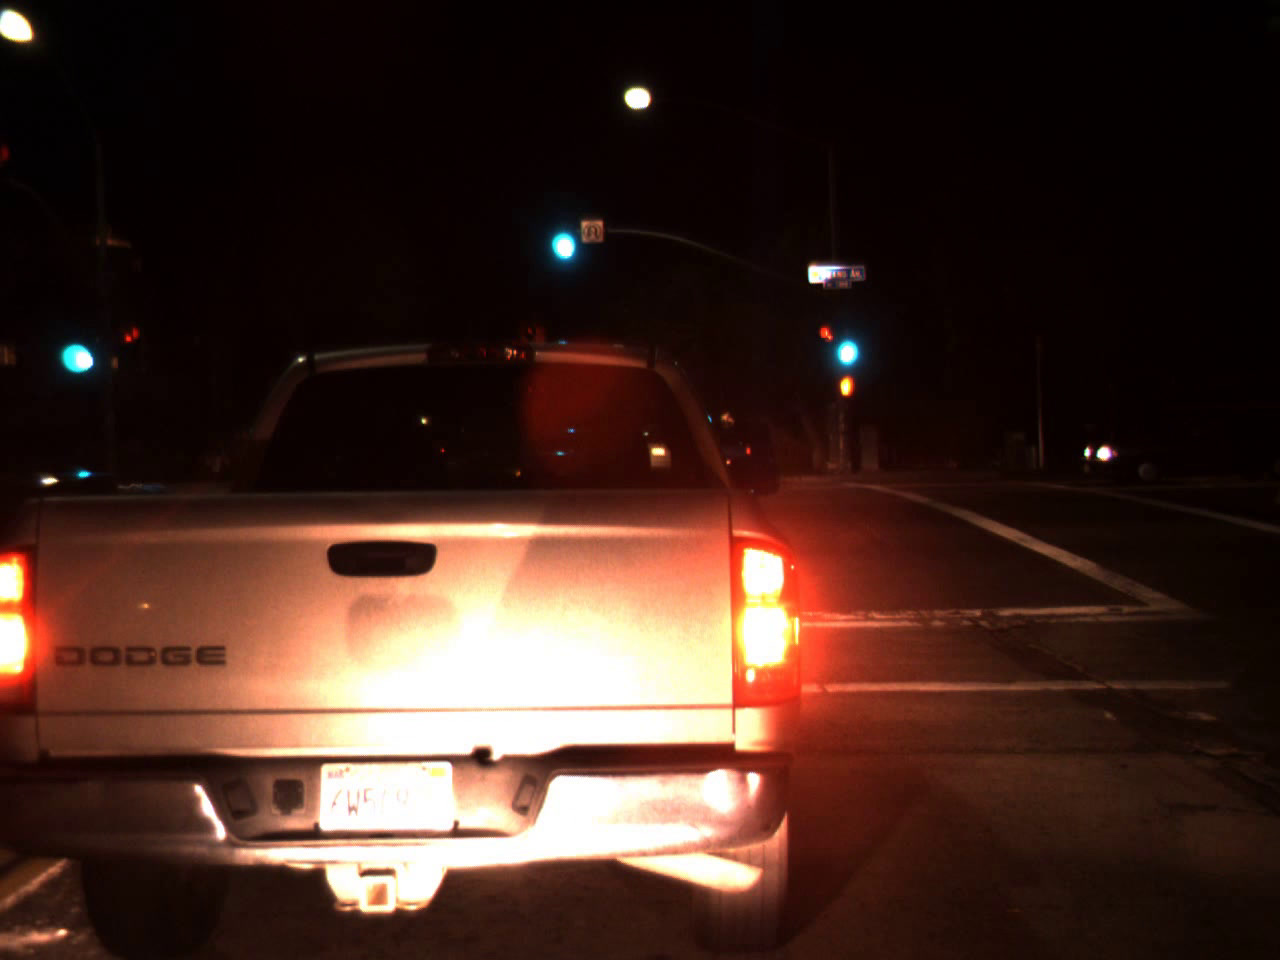go: (51, 304, 97, 385), (541, 198, 580, 270), (828, 309, 862, 375)
